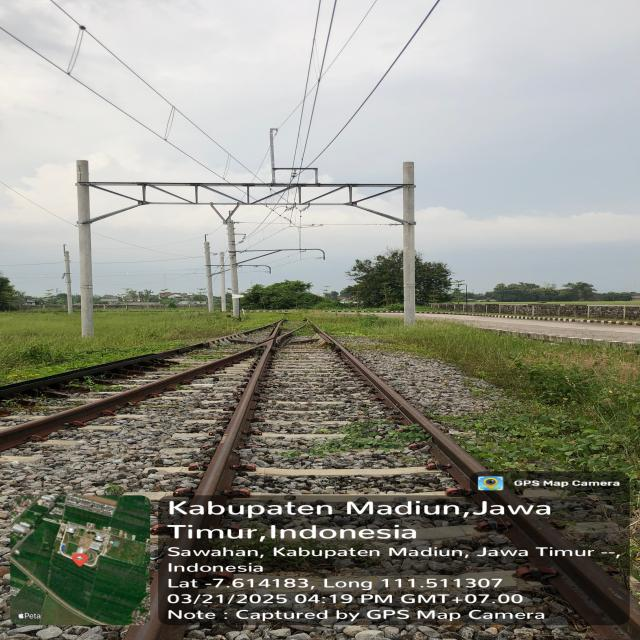rail-detection: (0, 350, 250, 450), (320, 331, 491, 477), (0, 331, 250, 399), (196, 339, 273, 498), (38, 370, 79, 382)
